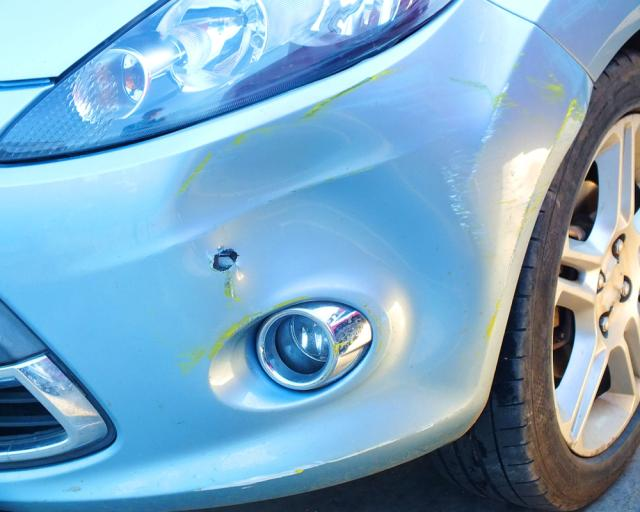dent: (170, 110, 480, 371)
scratch: (438, 55, 586, 262), (194, 418, 441, 495)
